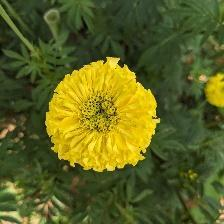marigold: (43, 56, 167, 176)
